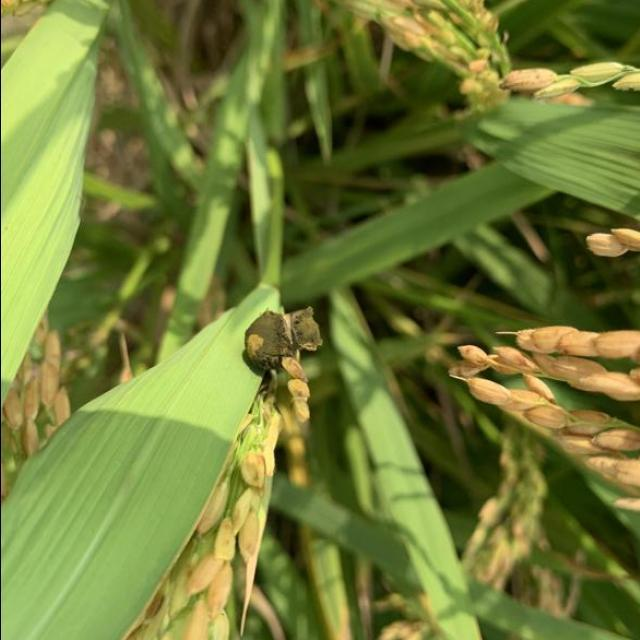Leaf_Scald: (244, 306, 322, 382)
